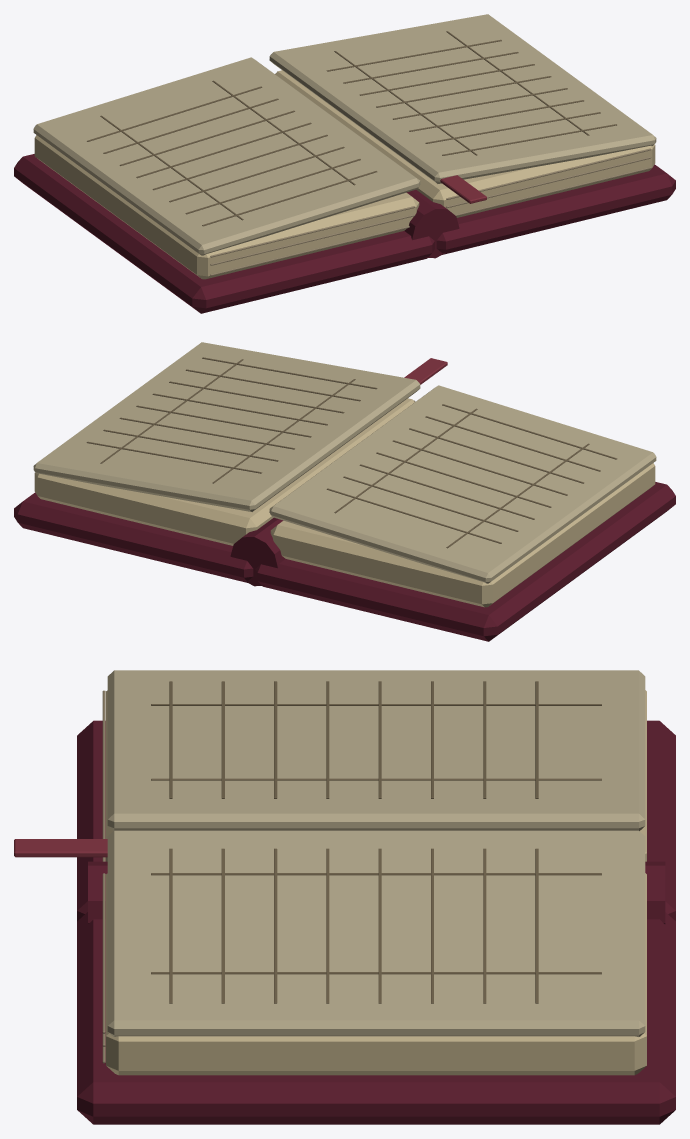
The model's file is OpenGuestbook.glb.
3 renders of one model, top to bottom at view 1: azimuth 30°, elevation 25°; view 2: azimuth 150°, elevation 25°; view 3: azimuth 270°, elevation 25°, orthographic. The views are drawn at different scales.
Parts seen in each view (by area): view 1: OpenPage, OpenPage.001, LeatherCover, PageBlock, LeatherCover.001, PageBlock.001, LeatherSpine, BookmarkRibbon, PageEdge.001, PageEdge.002, PageEdge, PageEdge.003 (+2 smaller); view 2: OpenPage, OpenPage.001, LeatherCover, PageBlock, PageBlock.001, LeatherCover.001, LeatherSpine, BookmarkRibbon; view 3: OpenPage.001, OpenPage, LeatherCover.001, PageBlock.001, LeatherCover, LeatherSpine, BookmarkRibbon, PageColumn, PageColumn.002, PageColumn.003, PageColumn.001, PageBlock.
Boxes of the visible parts, x1,y1,x2,y2 form: OpenPage: (33,57,420,255); OpenPage.001: (269,14,656,183); LeatherCover: (14,154,434,313); PageBlock: (34,135,419,279); LeatherCover.001: (436,164,675,254); PageBlock.001: (275,70,655,217); LeatherSpine: (404,189,459,258); BookmarkRibbon: (440,175,486,203); PageEdge.001: (210,214,415,265); PageEdge.002: (210,206,415,257); PageEdge: (210,226,409,275); PageEdge.003: (455,167,650,216); OpenPage: (269,385,656,583); OpenPage.001: (33,342,420,511); LeatherCover: (255,482,675,641); PageBlock: (270,463,655,607); PageBlock.001: (34,398,414,545); LeatherCover.001: (14,492,253,582); LeatherSpine: (230,517,285,586); BookmarkRibbon: (404,358,447,384); OpenPage.001: (107,830,645,1036); OpenPage: (107,670,645,830); LeatherCover.001: (77,912,675,1124); PageBlock.001: (106,873,646,1075); LeatherCover: (77,720,675,921); LeatherSpine: (88,861,665,923); BookmarkRibbon: (14,839,107,857); PageColumn: (151,778,601,780); PageColumn.002: (151,873,601,875); PageColumn.003: (151,972,601,974); PageColumn.001: (151,704,601,705); PageBlock: (106,690,646,861).
Size of the model in its own units: 2.46 by 0.373 by 1.84.
